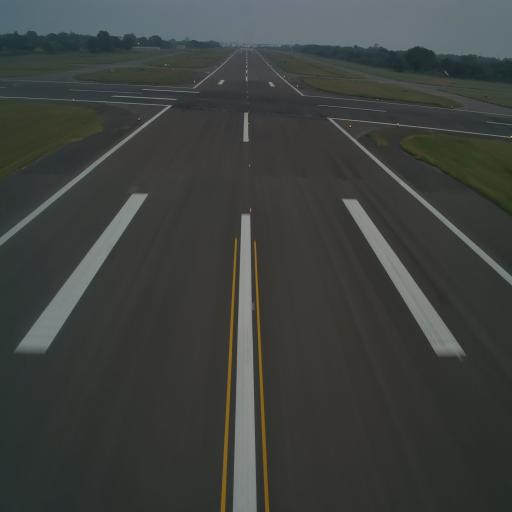on: (248, 295, 257, 315), (135, 112, 143, 125), (246, 205, 254, 217), (246, 158, 254, 170), (348, 119, 355, 132), (247, 118, 250, 126), (248, 136, 250, 143)
